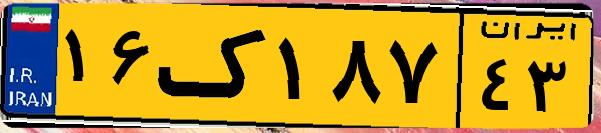1: (270, 28, 330, 110), (57, 26, 110, 100)
3: (525, 38, 570, 115)
4: (475, 38, 525, 113)
6: (110, 28, 158, 98)
7: (385, 28, 445, 110)
8: (330, 28, 385, 110)
ک: (158, 12, 270, 120)
